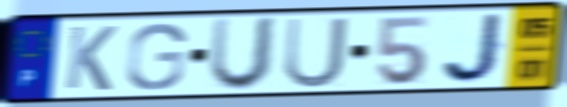5: (375, 14, 431, 88)
G: (123, 21, 189, 92)
J: (439, 11, 507, 86)
K: (62, 24, 120, 93)
U: (205, 14, 281, 94), (282, 15, 351, 91)
